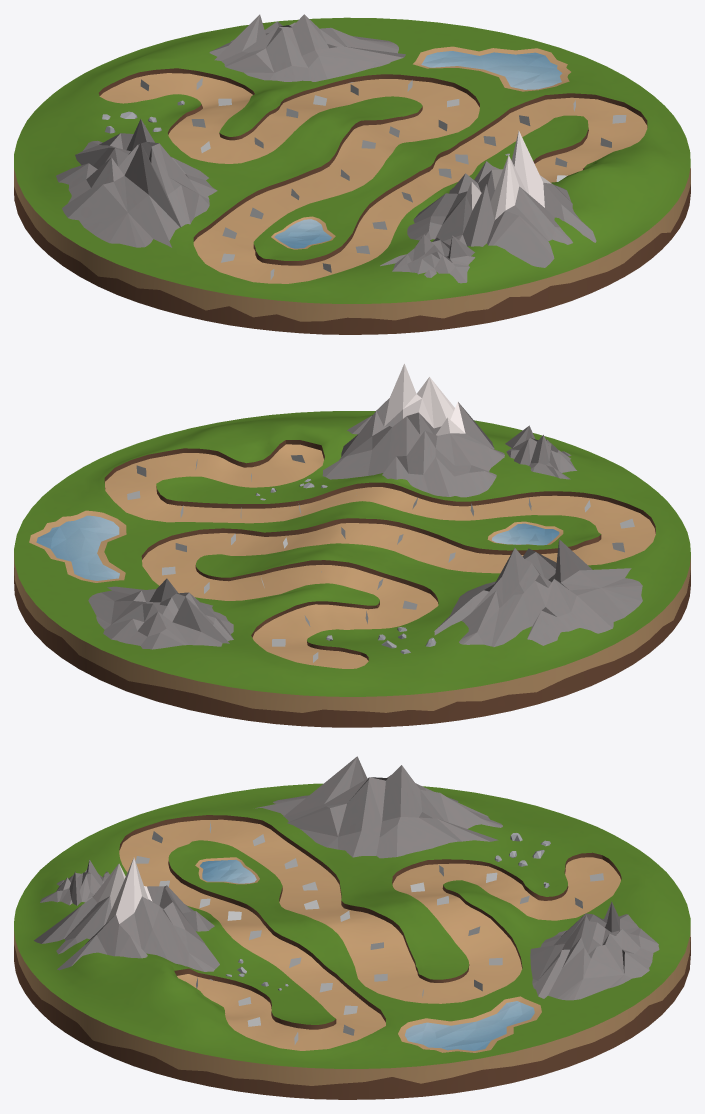
Rendered from Land.fbx.
3 renders of one model, top to bottom at view 1: azimuth 30°, elevation 25°; view 2: azimuth 150°, elevation 25°; view 3: azimuth 270°, elevation 25°, orthographic.
Parts seen in each view (by area): view 1: Terrain; view 2: Terrain; view 3: Terrain.
Part boxes in pixels (box(x1,y1,x2,y2)): Terrain: box(14, 14, 690, 334); Terrain: box(14, 363, 690, 727); Terrain: box(14, 756, 690, 1099).
Bounding box in the file's own units: 49.69 × 10.34 × 49.69.
